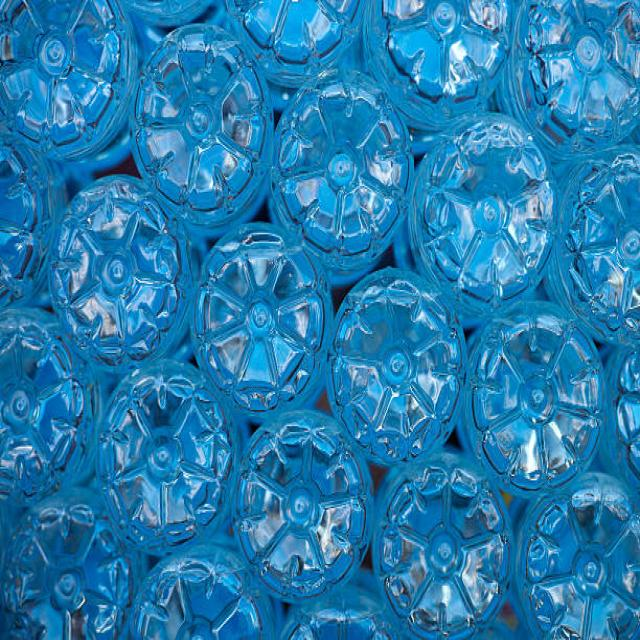plastic: (466, 312, 628, 526), (44, 158, 198, 369), (226, 389, 369, 605), (272, 69, 417, 264), (1, 2, 143, 136), (3, 489, 127, 640)
